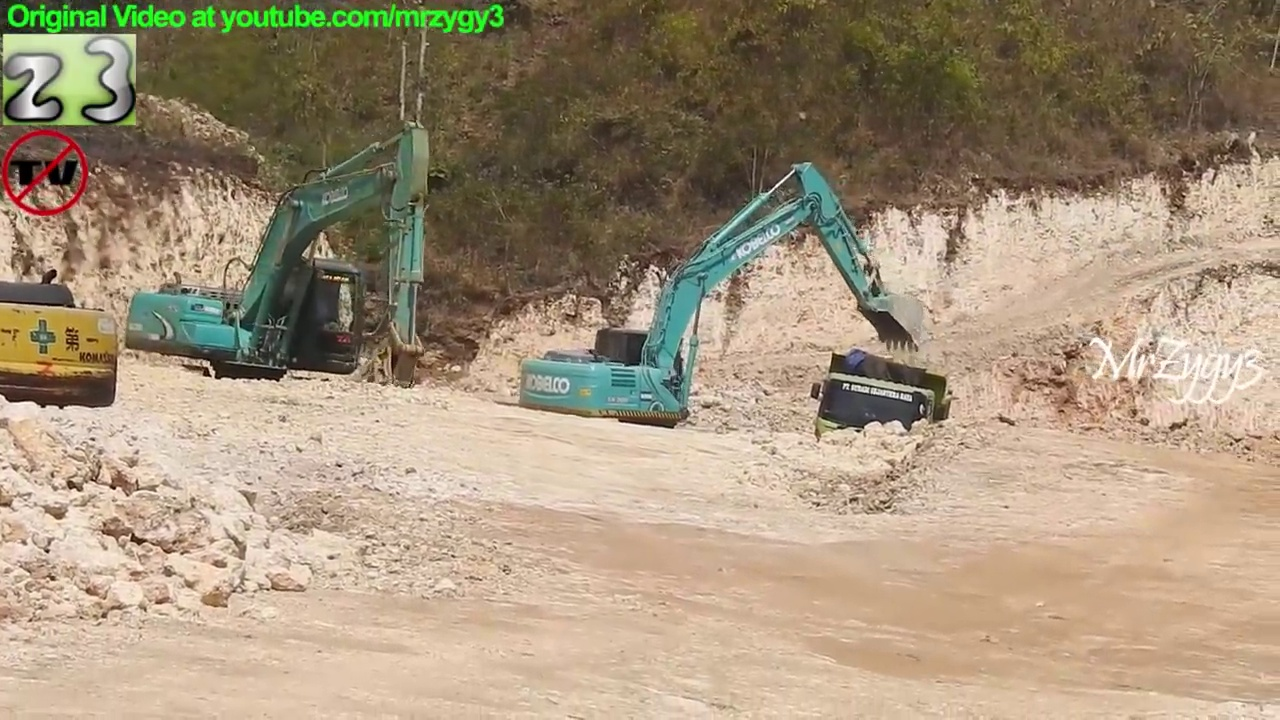excavator: (512, 155, 926, 451), (120, 113, 440, 407), (1, 262, 126, 416)
truck: (805, 344, 958, 486)
